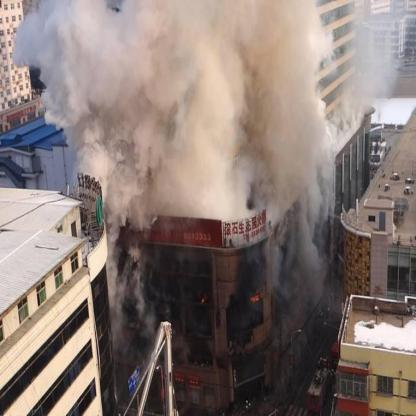smoke: (58, 2, 334, 74), (106, 132, 337, 218), (86, 75, 328, 130), (104, 223, 142, 338), (274, 216, 324, 302), (8, 6, 55, 70), (43, 73, 84, 128), (66, 130, 107, 182)
